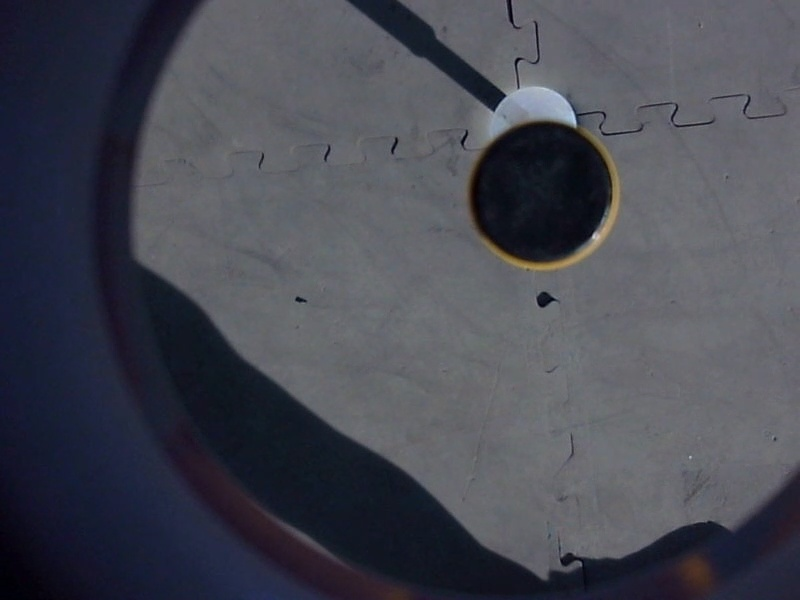tip: (461, 114, 629, 277)
